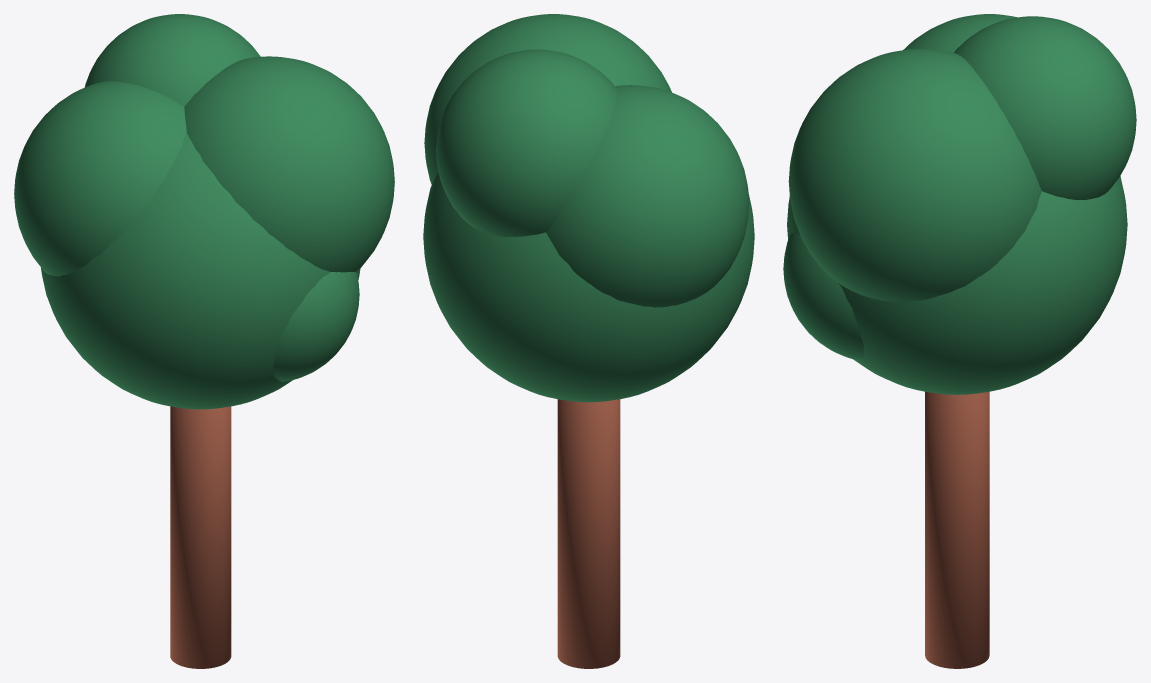
The model's file is urban_tree_photoreal_proxy.fbx.
The picture shows the model from 3 angles, left to right: view 1: azimuth 30°, elevation 25°; view 2: azimuth 150°, elevation 25°; view 3: azimuth 270°, elevation 25°; orthographic projection. The views are drawn at different scales.
Visible parts, largest first — view 1: tree_layered_canopy_lobe_0, tree_layered_canopy_lobe_1, tree_layered_canopy_lobe_2, tree_trunk, tree_layered_canopy_lobe_3, tree_layered_canopy_lobe_4; view 2: tree_layered_canopy_lobe_0, tree_layered_canopy_lobe_2, tree_layered_canopy_lobe_3, tree_trunk, tree_layered_canopy_lobe_1; view 3: tree_layered_canopy_lobe_1, tree_layered_canopy_lobe_0, tree_layered_canopy_lobe_3, tree_trunk, tree_layered_canopy_lobe_4, tree_layered_canopy_lobe_2.
Part boxes in pixels (box(x1,y1,x2,y2)): tree_layered_canopy_lobe_0: box(41, 133, 360, 409); tree_layered_canopy_lobe_1: box(184, 56, 394, 272); tree_layered_canopy_lobe_2: box(14, 81, 186, 276); tree_trunk: box(170, 406, 231, 668); tree_layered_canopy_lobe_3: box(84, 14, 260, 106); tree_layered_canopy_lobe_4: box(273, 271, 359, 381); tree_layered_canopy_lobe_0: box(423, 173, 754, 402); tree_layered_canopy_lobe_2: box(546, 85, 749, 307); tree_layered_canopy_lobe_3: box(436, 49, 617, 236); tree_trunk: box(557, 399, 620, 668); tree_layered_canopy_lobe_1: box(424, 14, 671, 184); tree_layered_canopy_lobe_1: box(788, 48, 1041, 301); tree_layered_canopy_lobe_0: box(787, 176, 1127, 394); tree_layered_canopy_lobe_3: box(954, 16, 1136, 200); tree_trunk: box(925, 391, 989, 668); tree_layered_canopy_lobe_4: box(783, 232, 863, 360); tree_layered_canopy_lobe_2: box(903, 14, 1017, 52).
Size of the model in its own units: 215 by 392 by 197.
